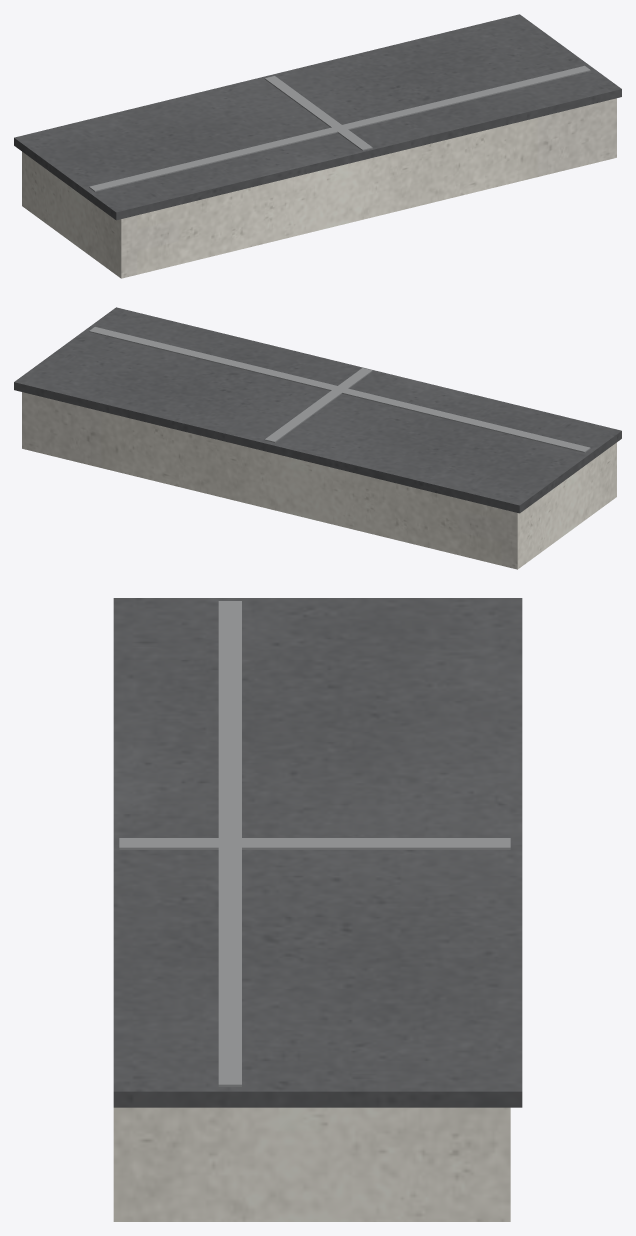
File: floor_membrane_r_half_e0001.glb
3 views of the same model, one above another, from view 1: azimuth 30°, elevation 25°; view 2: azimuth 150°, elevation 25°; view 3: azimuth 270°, elevation 25° (orthographic). The views are drawn at different scales.
Parts seen in each view (by area): view 1: floor_membrane_r_half_e0001_membrane, floor_membrane_r_half_e0001_plaster, floor_membrane_r_half_e0001_seam; view 2: floor_membrane_r_half_e0001_membrane, floor_membrane_r_half_e0001_plaster, floor_membrane_r_half_e0001_seam; view 3: floor_membrane_r_half_e0001_membrane, floor_membrane_r_half_e0001_plaster, floor_membrane_r_half_e0001_seam.
Part boxes in pixels (box(x1,y1,x2,y2)): floor_membrane_r_half_e0001_membrane: box(14, 14, 621, 220); floor_membrane_r_half_e0001_plaster: box(22, 98, 616, 278); floor_membrane_r_half_e0001_seam: box(89, 65, 590, 191); floor_membrane_r_half_e0001_membrane: box(14, 307, 621, 513); floor_membrane_r_half_e0001_plaster: box(22, 392, 616, 569); floor_membrane_r_half_e0001_seam: box(89, 327, 590, 452); floor_membrane_r_half_e0001_membrane: box(113, 598, 522, 1107); floor_membrane_r_half_e0001_plaster: box(113, 1107, 510, 1221); floor_membrane_r_half_e0001_seam: box(119, 601, 510, 1086).
Size of the model in its own units: 2 by 0.259 by 0.7.
Materials: 3 (2 with a texture image).
